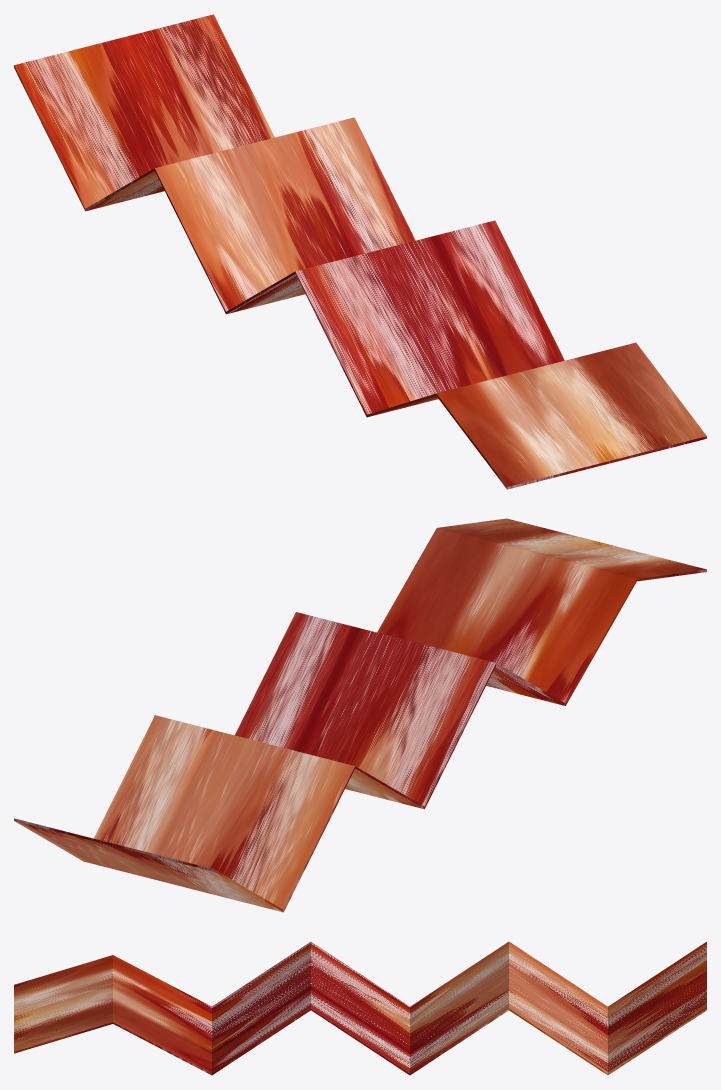
File: bacon.glb
The picture shows the model from 3 angles, top to bottom: view 1: azimuth 30°, elevation 25°; view 2: azimuth 150°, elevation 25°; view 3: azimuth 270°, elevation 25°; orthographic projection. The views are drawn at different scales.
Visible parts, largest first — view 1: Plane; view 2: Plane; view 3: Plane.
Part boxes in pixels (bbox=[...]): Plane: bbox=[14, 14, 706, 489]; Plane: bbox=[14, 518, 706, 912]; Plane: bbox=[14, 941, 706, 1075].
Bounding box in the file's own units: 2.01 × 0.9282 × 8.54.
Materials: 1 (1 with a texture image).
